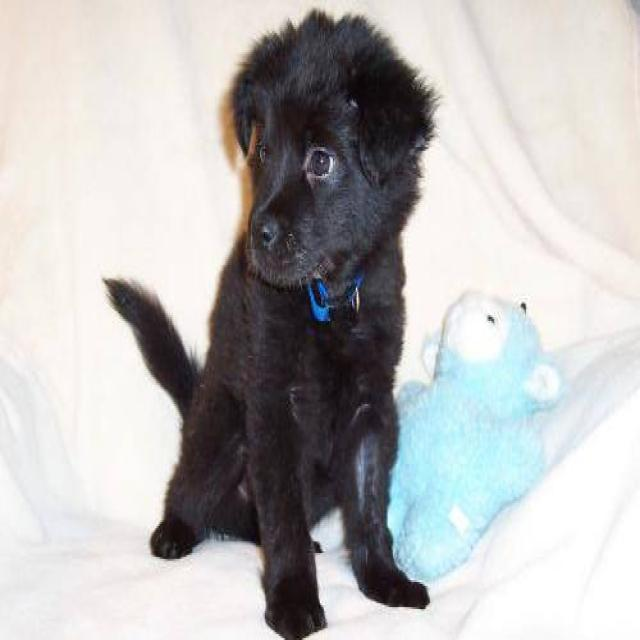dog: (101, 6, 442, 638)
